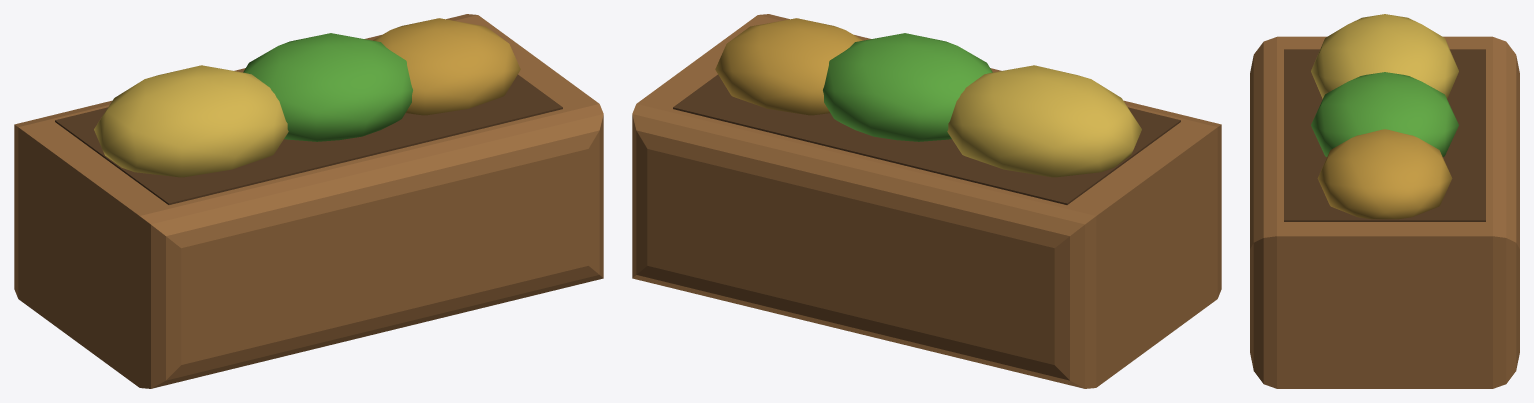
File: feeder.glb
3 views of the same model, side by side, from view 1: azimuth 30°, elevation 25°; view 2: azimuth 150°, elevation 25°; view 3: azimuth 270°, elevation 25° (orthographic). The views are drawn at different scales.
Parts seen in each view (by area): view 1: part_000, part_001; view 2: part_000, part_001; view 3: part_000, part_001.
Part boxes in pixels (x1,y1,x2,y2): part_000: (14, 14, 603, 388); part_001: (94, 18, 520, 177); part_000: (632, 14, 1221, 388); part_001: (715, 18, 1141, 177); part_000: (1250, 36, 1519, 388); part_001: (1311, 14, 1458, 219).
Bounding box in the file's own units: 1.4 × 0.69 × 0.8.
